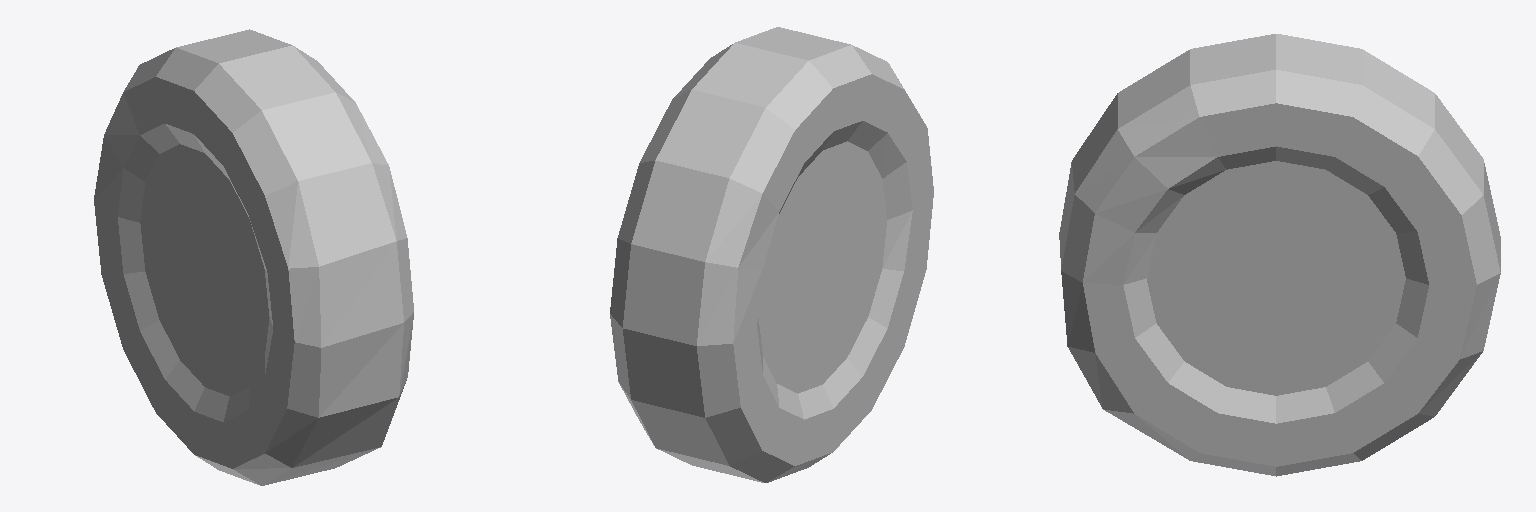
The model's file is truck_wheel_right.obj.
3 views of the same model, side by side, from view 1: azimuth 30°, elevation 25°; view 2: azimuth 150°, elevation 25°; view 3: azimuth 270°, elevation 25° (orthographic).
Parts seen in each view (by area): view 1: wheel.001_ID38.005; view 2: wheel.001_ID38.005; view 3: wheel.001_ID38.005.
Boxes of the visible parts, x1=… form: wheel.001_ID38.005: x1=94, y1=29, x2=413, y2=485; wheel.001_ID38.005: x1=610, y1=27, x2=933, y2=482; wheel.001_ID38.005: x1=1059, y1=34, x2=1500, y2=476.
Bounding box in the file's own units: 0.5963 × 1.82 × 1.79.